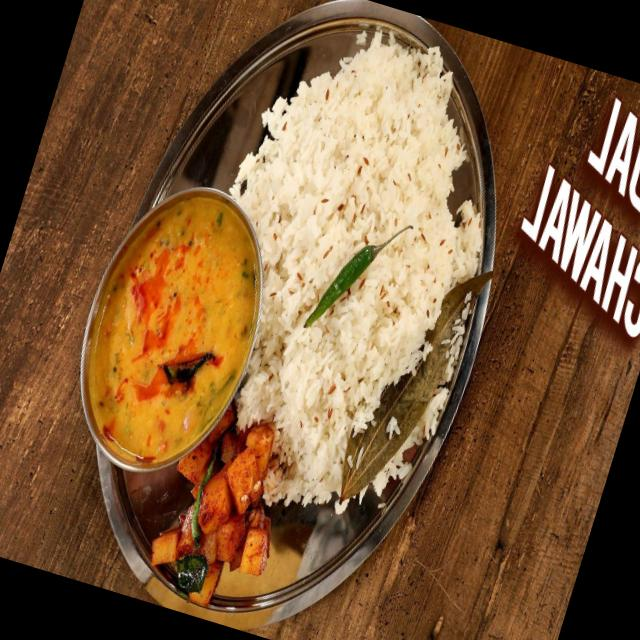dal: (93, 203, 252, 459)
rice: (229, 29, 479, 501)
